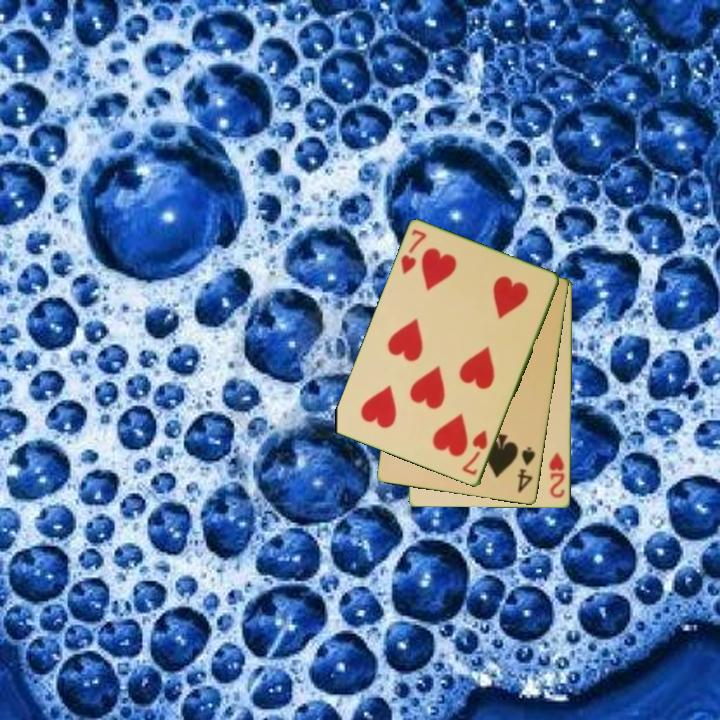2h: (546, 449, 568, 501)
4s: (514, 444, 538, 496)
7h: (397, 226, 430, 278), (459, 426, 491, 479)
